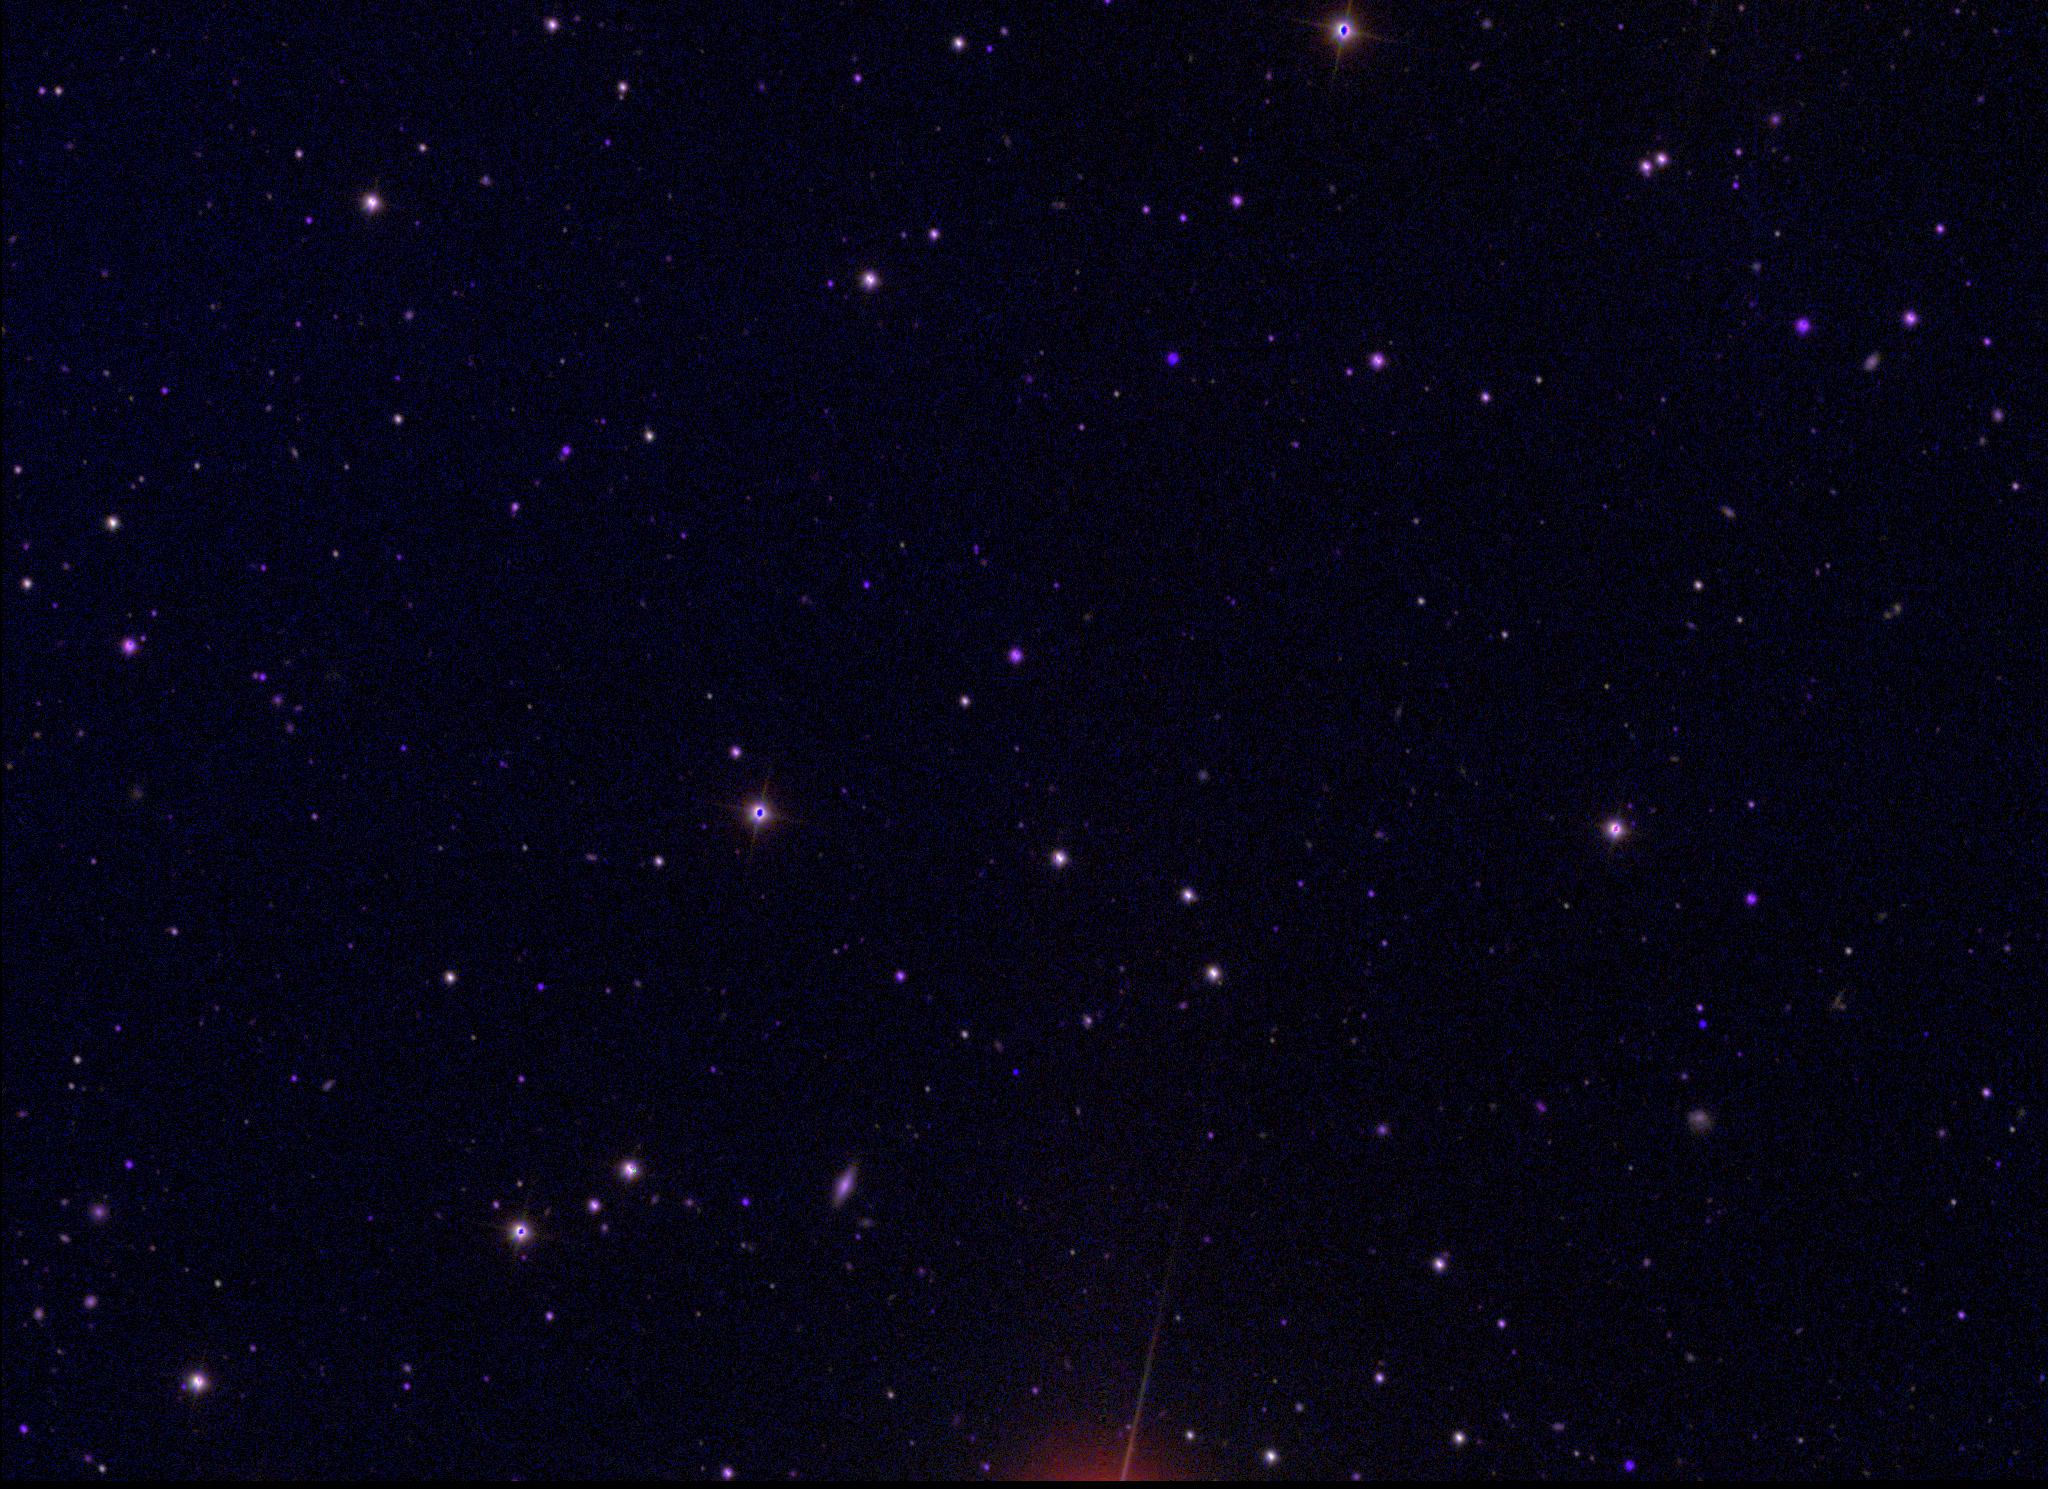L: (1008, 1064, 1022, 1079)
